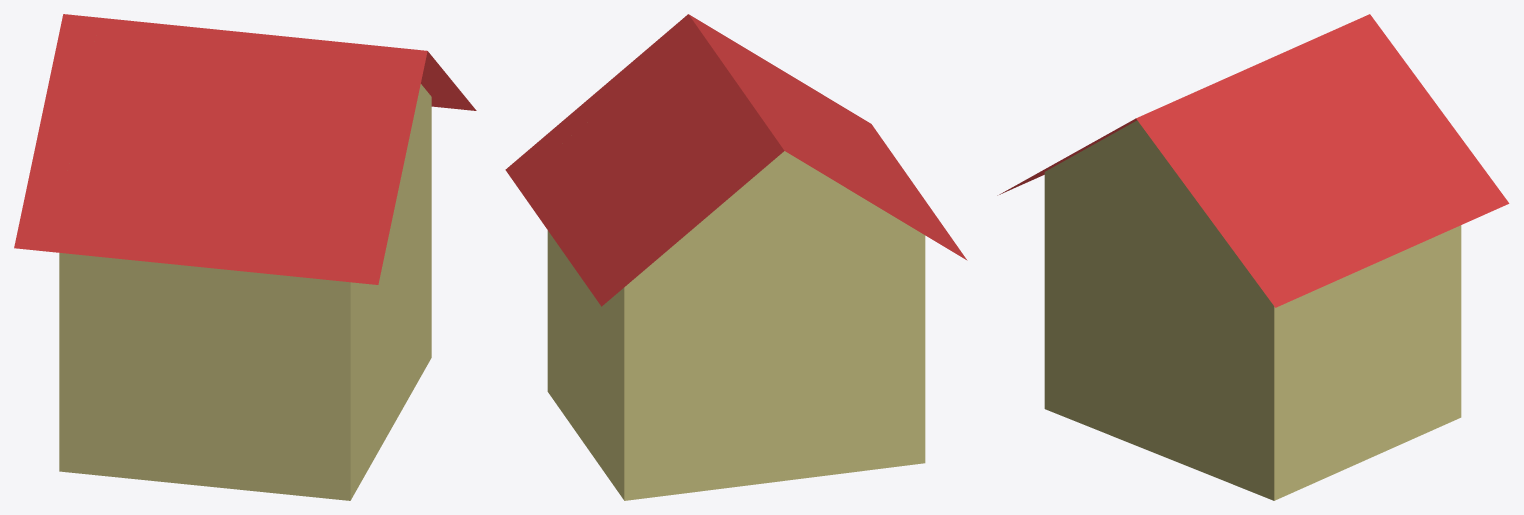
The picture shows the model from 3 angles, left to right: view 1: azimuth 30°, elevation 25°; view 2: azimuth 150°, elevation 25°; view 3: azimuth 270°, elevation 25°; orthographic projection. The views are drawn at different scales.
Visible parts, largest first — view 1: group_5, group_3, group_4; view 2: group_5, group_3, group_4; view 3: group_5, group_3, group_4.
Boxes of the visible parts, left/top/right/bottom form: group_5: left=59, top=84, right=431, bottom=500; group_3: left=16, top=17, right=476, bottom=284; group_4: left=14, top=14, right=427, bottom=284; group_5: left=547, top=151, right=925, bottom=500; group_3: left=548, top=14, right=924, bottom=306; group_4: left=505, top=14, right=967, bottom=306; group_5: left=1044, top=120, right=1461, bottom=500; group_3: left=997, top=14, right=1509, bottom=300; group_4: left=1137, top=119, right=1508, bottom=307.
Size of the model in its own units: 14.96 by 15 by 11.2.
